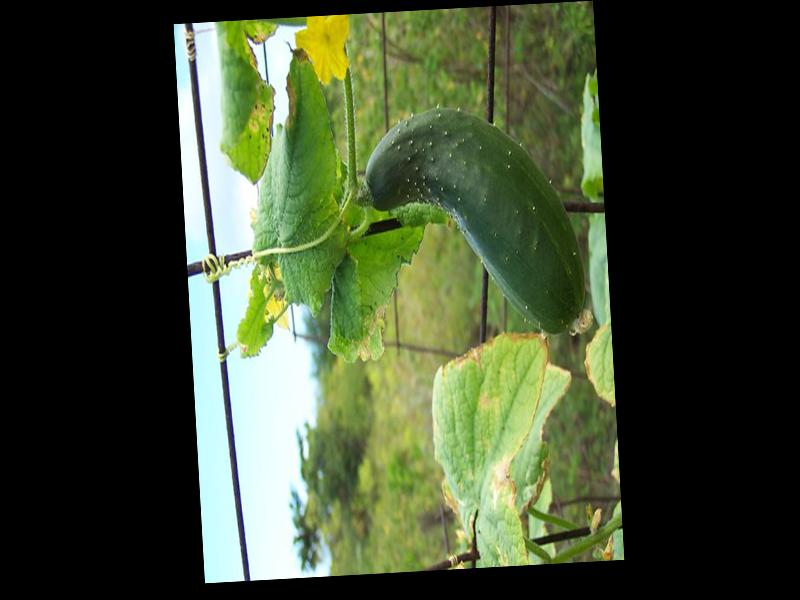Cucumber: (359, 103, 588, 347)
